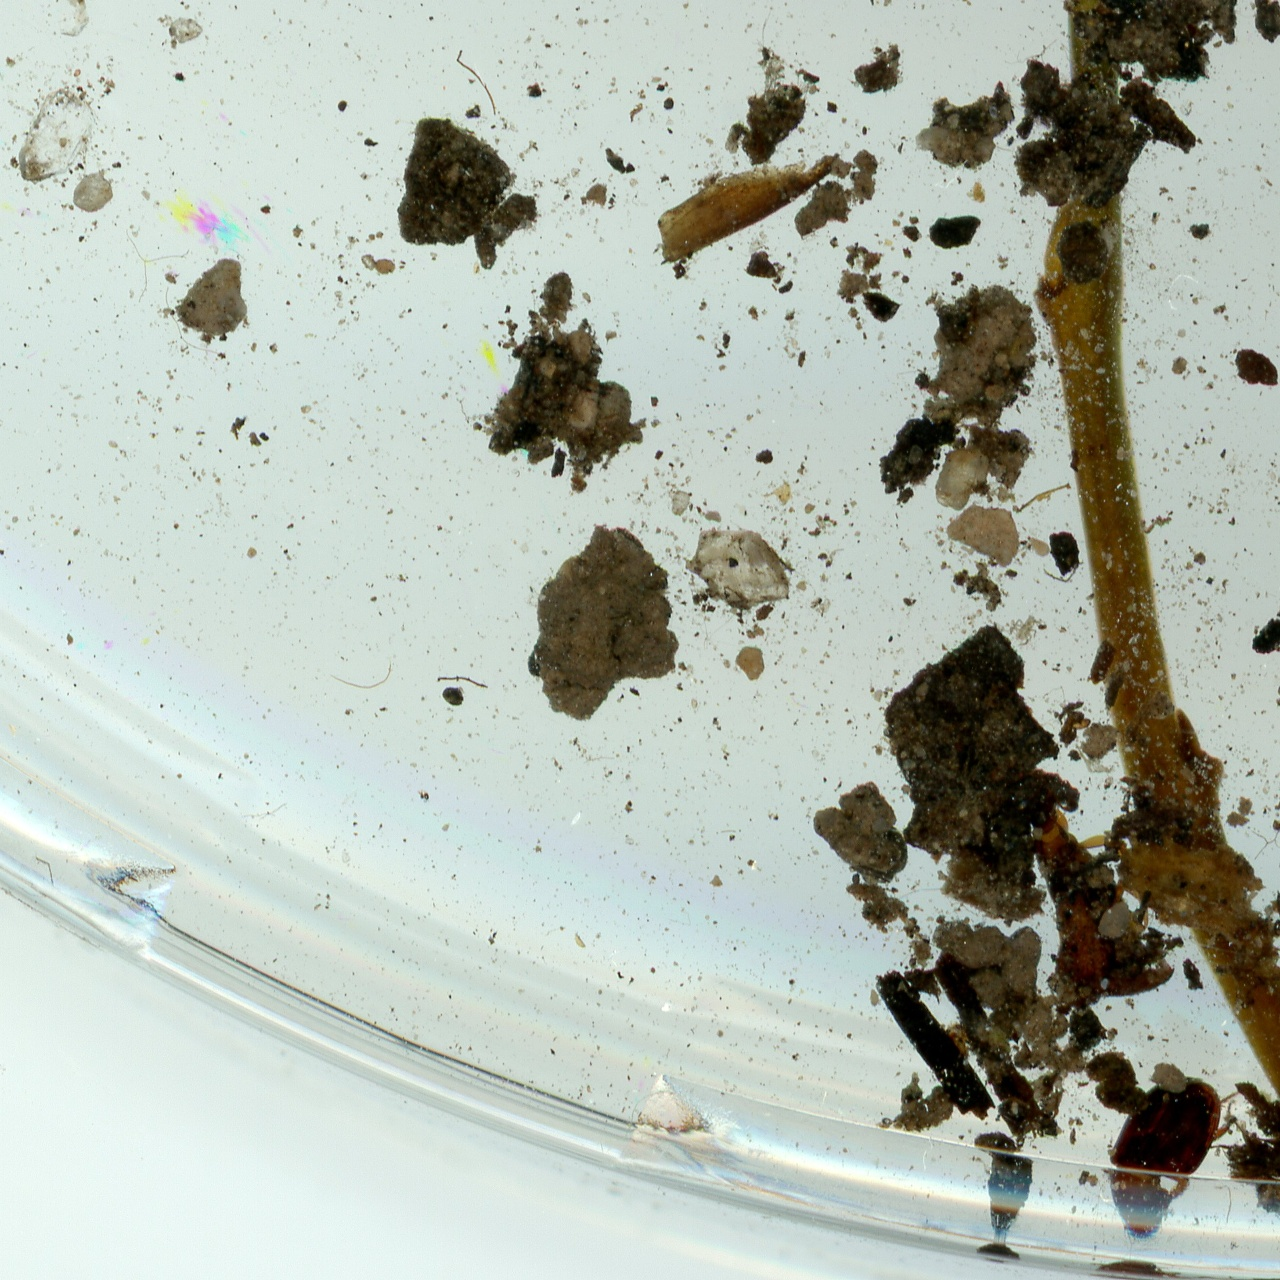arthropod: (1019, 788, 1184, 1001), (1105, 1077, 1242, 1243), (1103, 1073, 1230, 1239)
